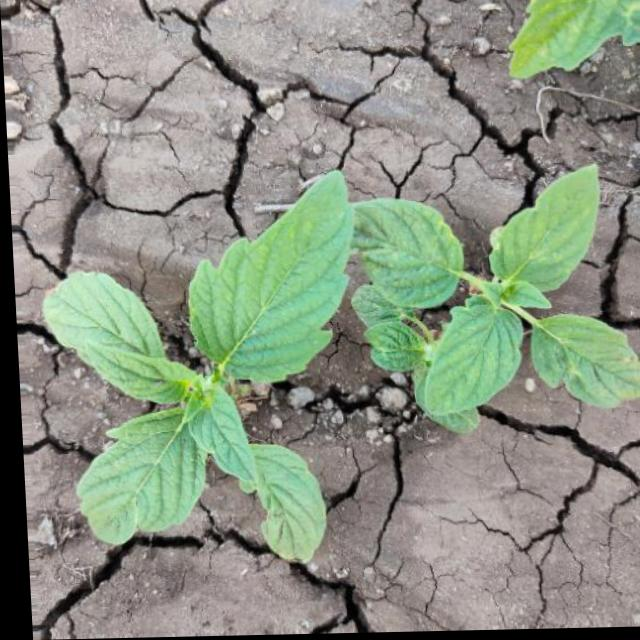crop: (32, 176, 388, 578), (337, 139, 640, 474)
